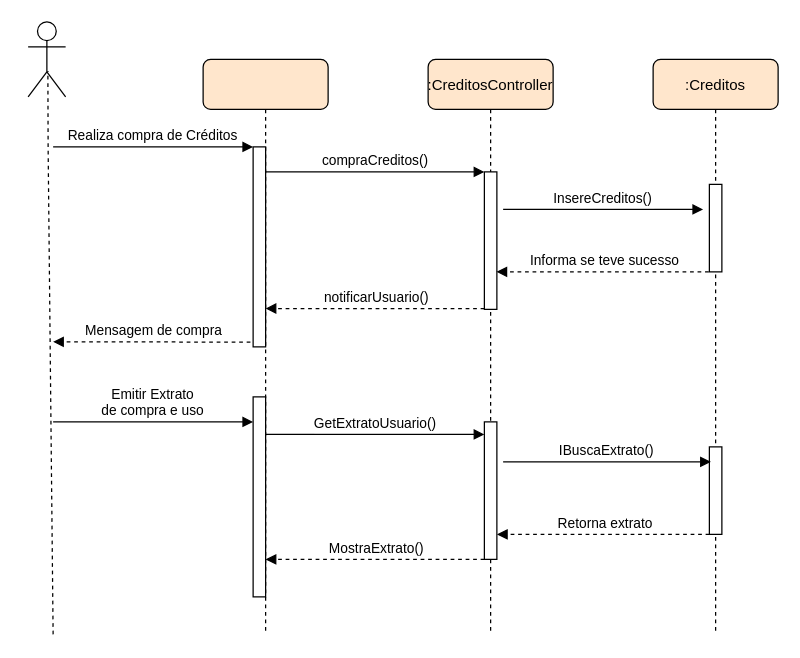
Image size: 800x658. Some labels were removed from this diagram. The shapes that lost their labels are listed below. From the top down, each one's centre as x and y in pixels, then its label:
point 46,59: Usuário
point 265,346: :interface Creditos
